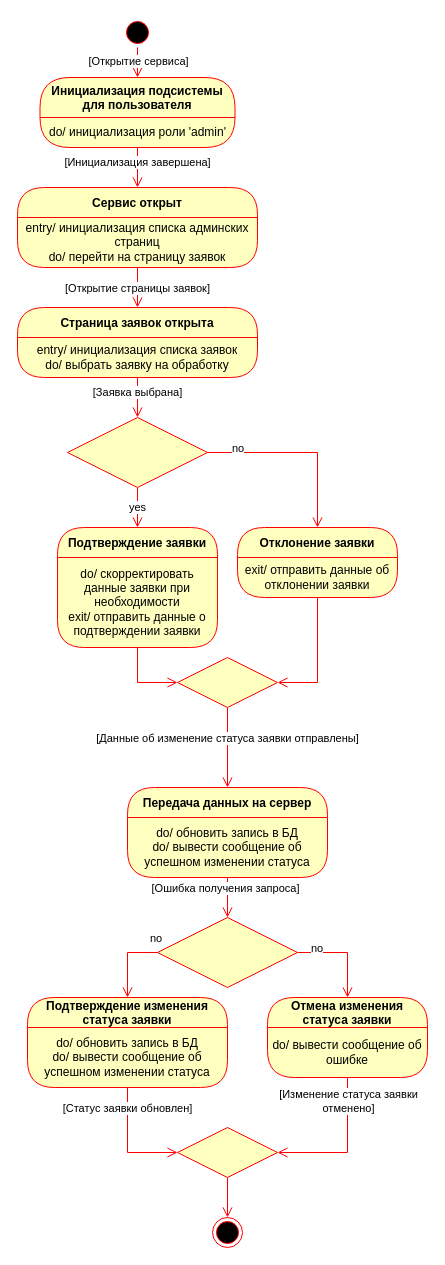
Image size: 445x1265. Some labels were removed from this diagram. The centre of each missing label's shape, as x and y in pixels:
"Заявка удовлетворительна" belongs at point (137, 452).
"Сервер получил запрос успешно" belongs at point (227, 952).
